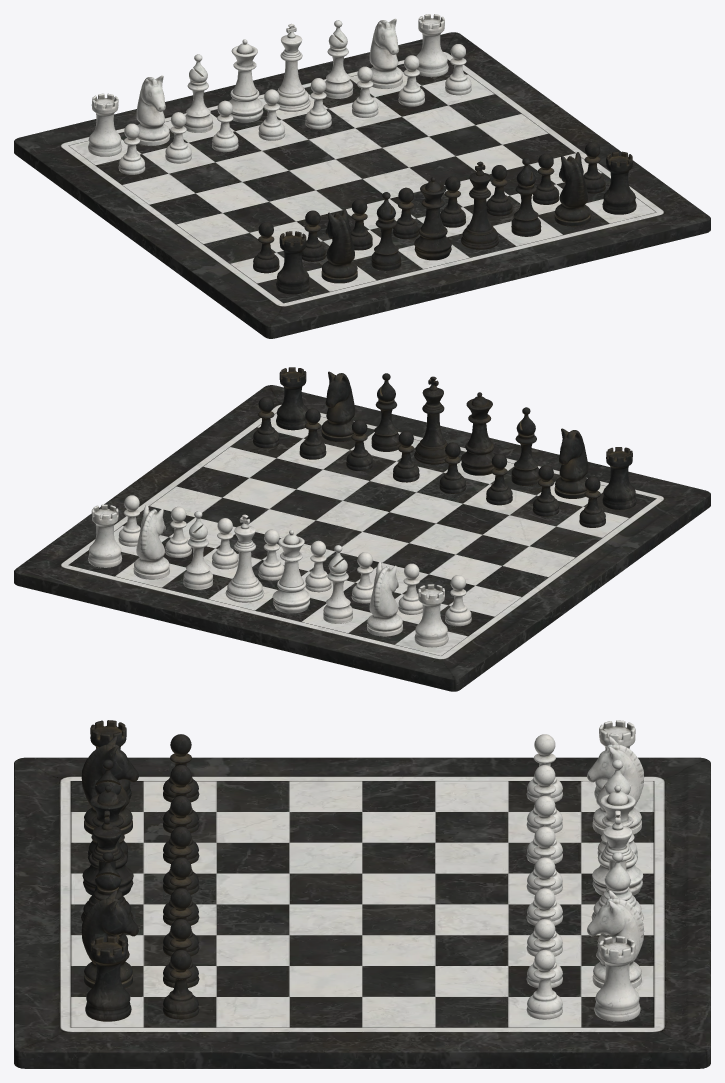
File: chess_set.glb
3 renders of one model, top to bottom at view 1: azimuth 30°, elevation 25°; view 2: azimuth 150°, elevation 25°; view 3: azimuth 270°, elevation 25°, orthographic. The views are drawn at different scales.
Parts seen in each view (by area): view 1: board, piece_rook_black_01, piece_rook_white_01; view 2: board, piece_rook_white_01, piece_rook_black_01; view 3: board, piece_rook_white_01, piece_rook_black_01.
Boxes of the visible parts, <box> form: board: <box>14,32,710,338</box>; piece_rook_black_01: <box>253,142,636,294</box>; piece_rook_white_01: <box>88,14,471,174</box>; board: <box>14,385,710,691</box>; piece_rook_white_01: <box>88,495,471,647</box>; piece_rook_black_01: <box>253,367,636,527</box>; board: <box>14,757,710,1068</box>; piece_rook_white_01: <box>526,720,644,1021</box>; piece_rook_black_01: <box>81,720,199,1021</box>.
Size of the model in its own units: 0.5532 by 0.1123 by 0.5532.
Materials: 3 (3 with a texture image).
